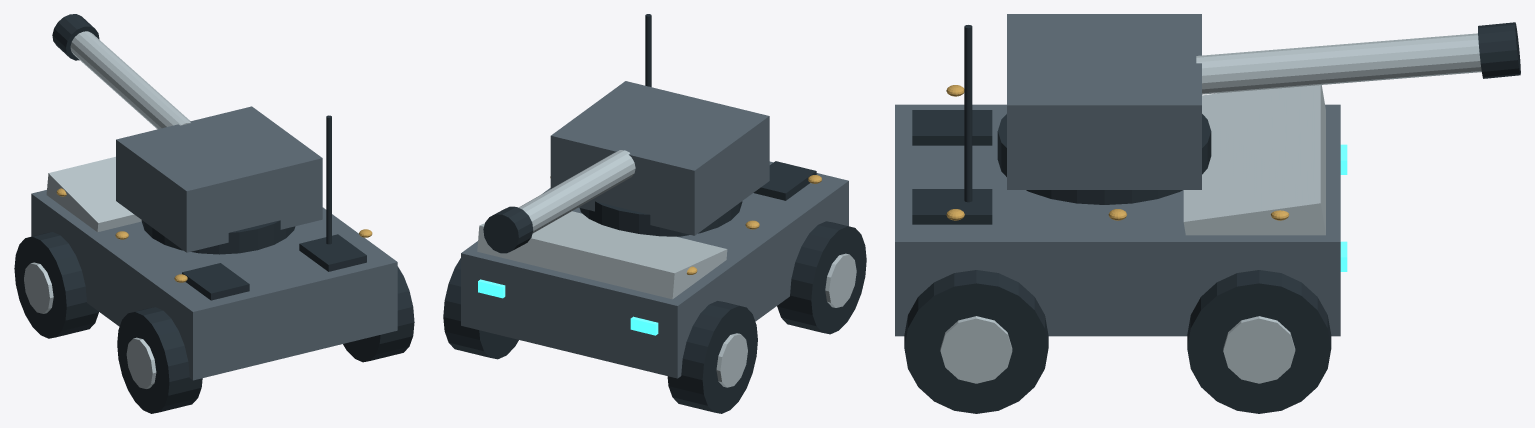
File: scout-buggy.glb
The picture shows the model from 3 angles, left to right: view 1: azimuth 30°, elevation 25°; view 2: azimuth 150°, elevation 25°; view 3: azimuth 270°, elevation 25°; orthographic projection. The views are drawn at different scales.
Parts seen in each view (by area): view 1: armored lower hull, turret upper armor, tire, tire.001, sloped glacis, main cannon, tire.002, turret ring, rear engine grill, rear engine grill.001, wheel hub.001, wheel hub (+2 smaller); view 2: armored lower hull, turret upper armor, sloped glacis, tire.001, tire, main cannon, tire.003, turret ring, muzzle brake, rear engine grill, wheel hub.001, wheel hub (+3 smaller); view 3: armored lower hull, turret upper armor, sloped glacis, tire.003, tire.002, main cannon, wheel hub.002, wheel hub.003, rear engine grill.001, rear engine grill, turret ring, muzzle brake (+1 smaller).
Boxes of the visible parts, x1,y1,x2,y2 form: armored lower hull: (31,190,397,380); turret upper armor: (116,106,322,252); tire: (117,307,202,413); tire.001: (14,232,98,338); sloped glacis: (46,156,141,232); main cannon: (70,31,190,129); tire.002: (343,266,414,362); turret ring: (141,220,295,254); rear engine grill: (182,263,249,300); rear engine grill.001: (299,234,366,271); wheel hub.001: (24,262,53,313); wheel hub: (126,337,156,388); armored lower hull: (461,161,848,378); turret upper armor: (550,81,769,235); sloped glacis: (477,211,727,299); tire.001: (667,301,757,413); tire: (777,221,866,334); main cannon: (518,150,635,233); tire.003: (443,258,518,359); turret ring: (579,201,742,236); muzzle brake: (483,206,533,253); rear engine grill: (753,161,816,200); wheel hub.001: (716,333,747,387); wheel hub: (825,253,856,307); armored lower hull: (895,104,1340,336); turret upper armor: (1007,14,1201,189); sloped glacis: (1183,85,1325,235); tire.003: (1187,270,1331,413); tire.002: (904,270,1048,413); main cannon: (1196,33,1481,94); wheel hub.002: (940,316,1012,383); wheel hub.003: (1223,316,1295,383); rear engine grill.001: (912,189,992,224); rear engine grill: (912,110,992,145); turret ring: (997,114,1211,204); muzzle brake: (1478,22,1520,78).
Size of the model in its own units: 1.5 by 1.43 by 2.35.
